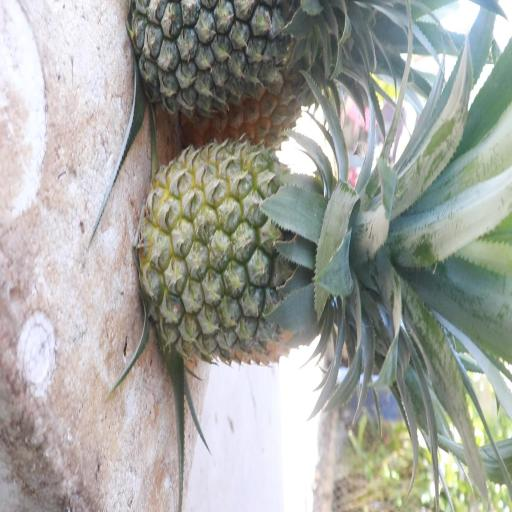------------------------------: (138, 143, 354, 363)
